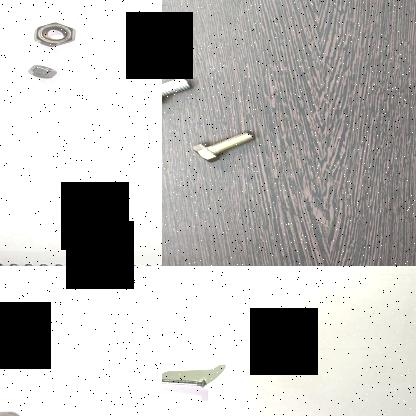Bolts: (186, 128, 258, 162), (162, 67, 194, 109), (162, 373, 213, 390)
NUTS: (14, 16, 84, 50), (24, 59, 76, 87)
